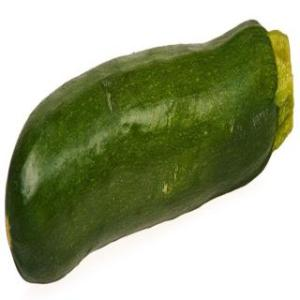zucchini: (4, 16, 300, 276)
